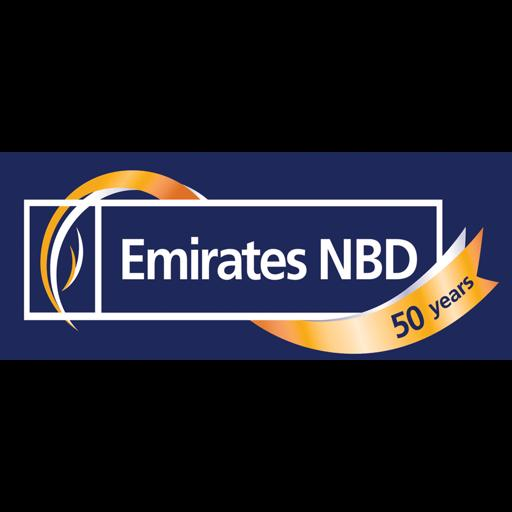Emirates NBD: (0, 152, 512, 360)
